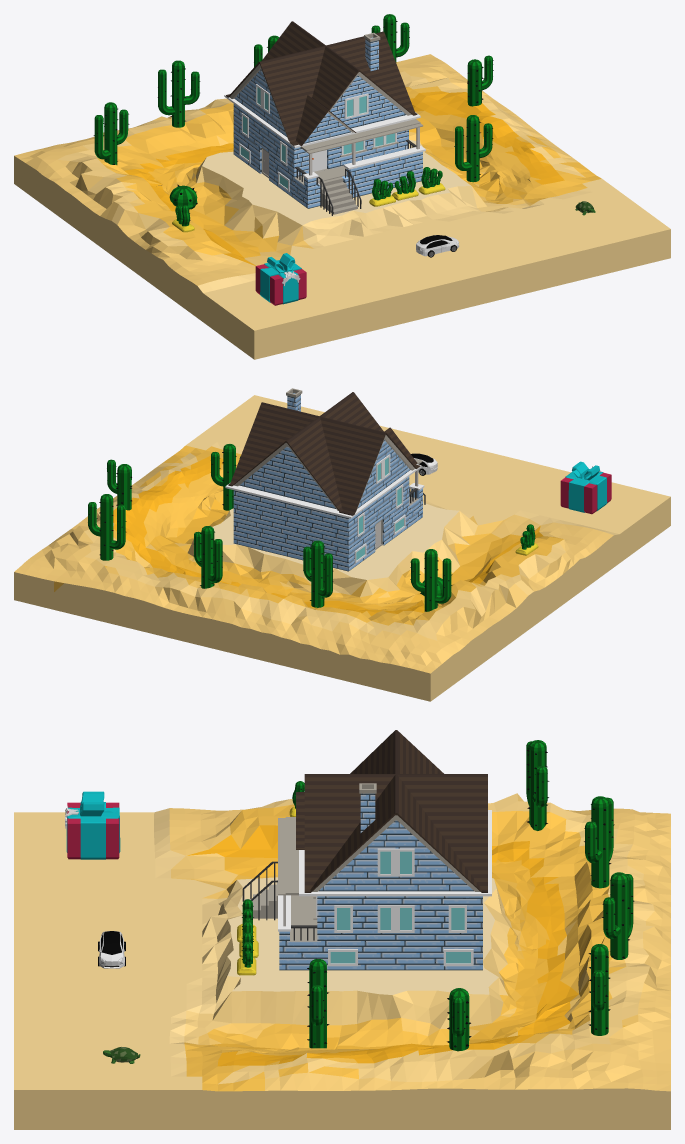
3 views of the same model, one above another, from view 1: azimuth 30°, elevation 25°; view 2: azimuth 150°, elevation 25°; view 3: azimuth 270°, elevation 25° (orthographic). The views are drawn at different scales.
Visible parts, largest first — view 1: Cube.001, Cube.547, OBJRANDOM_GIANT_PRESENT, Cylinder.037, Cylinder.044, Cylinder.045, Cylinder.038, Cylinder.042, VEHICLES_TESLA, Cylinder.039, Cylinder.041, Sphere.023 (+1 smaller); view 2: Cube.001, Cube.547, OBJRANDOM_GIANT_PRESENT, Cylinder.042, Cylinder.045, Cylinder.044, Cylinder.043, Cylinder.037, Cylinder.038; view 3: Cube.001, Cube.547, OBJRANDOM_GIANT_PRESENT, Cylinder.043, Cylinder.044, Cylinder.045, Cylinder.042, Cylinder.037, Cylinder.038, VEHICLES_TESLA, Cylinder.041.
Boxes of the visible parts, x1,y1,x2,y2 form: Cube.001: (14, 54, 670, 359); Cube.547: (224, 21, 425, 215); OBJRANDOM_GIANT_PRESENT: (255, 253, 306, 305); Cylinder.037: (454, 115, 493, 182); Cylinder.044: (157, 60, 200, 127); Cylinder.045: (93, 102, 129, 164); Cylinder.038: (467, 55, 493, 106); Cylinder.042: (371, 14, 409, 62); VEHICLES_TESLA: (416, 235, 459, 257); Cylinder.039: (369, 179, 395, 206); Cylinder.041: (418, 167, 445, 194); Sphere.023: (169, 184, 197, 209); Cube.001: (14, 395, 670, 701); Cube.547: (225, 388, 425, 571); OBJRANDOM_GIANT_PRESENT: (560, 461, 611, 514); Cylinder.042: (88, 494, 126, 560); Cylinder.045: (410, 549, 452, 611); Cylinder.044: (303, 540, 333, 607); Cylinder.043: (193, 526, 222, 588); Cylinder.037: (211, 444, 240, 510); Cylinder.038: (107, 459, 131, 510); Cube.001: (14, 793, 670, 1129); Cube.547: (242, 730, 491, 970); OBJRANDOM_GIANT_PRESENT: (65, 791, 120, 859); Cylinder.043: (602, 872, 634, 959); Cylinder.044: (584, 796, 614, 888); Cylinder.045: (526, 740, 549, 830); Cylinder.042: (588, 944, 610, 1035); Cylinder.037: (307, 959, 329, 1048); Cylinder.038: (447, 988, 471, 1051); VEHICLES_TESLA: (98, 931, 125, 968); Cylinder.041: (237, 932, 256, 975).
Size of the model in its own units: 4002 by 1635 by 4001.
Materials: 31 (3 with a texture image).
